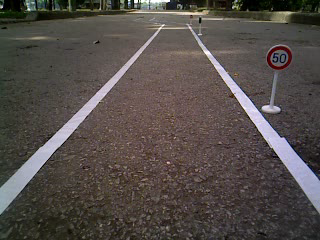limit 50: (264, 44, 295, 73)
